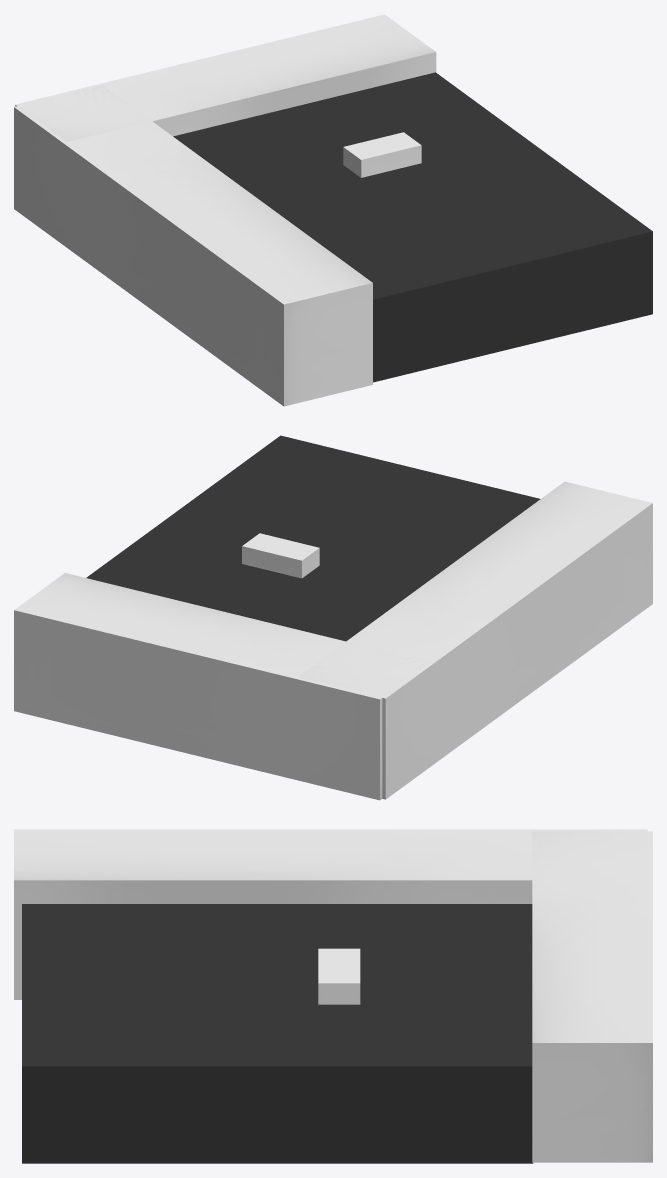
File: pistadobra.fbx
3 views of the same model, one above another, from view 1: azimuth 30°, elevation 25°; view 2: azimuth 150°, elevation 25°; view 3: azimuth 270°, elevation 25° (orthographic). The views are drawn at different scales.
Visible parts, largest first — view 1: Cube.002; view 2: Cube.002; view 3: Cube.002.
Part boxes in pixels (box(x1,y1,x2,y2)): Cube.002: box(14, 14, 652, 406); Cube.002: box(14, 435, 652, 800); Cube.002: box(14, 829, 652, 1163).
Bounding box in the file's own units: 160 × 42.22 × 202.
1 material, 1 textured.
